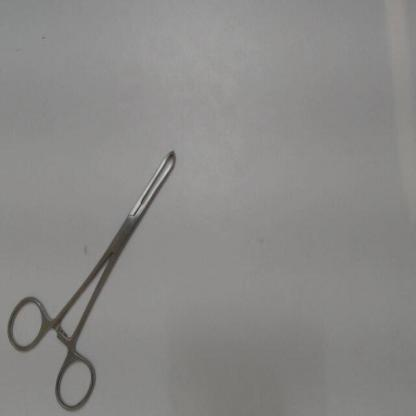Allis Tissue Forceps: (0, 137, 186, 415)
